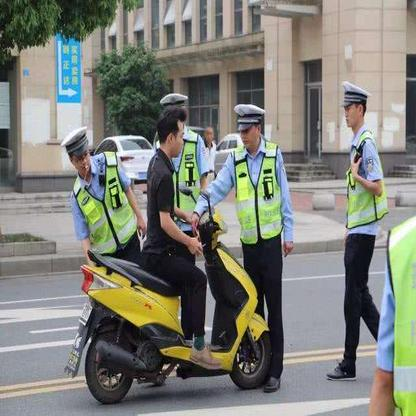target: (71, 108, 273, 405)
